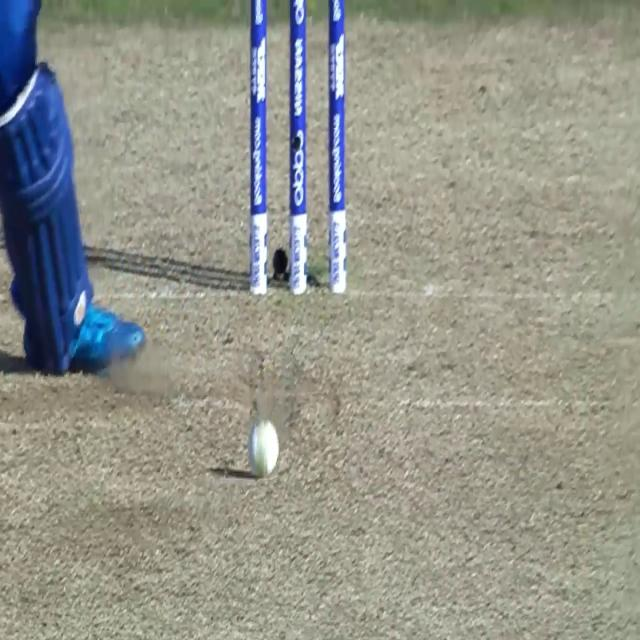ball: (245, 416, 279, 478)
